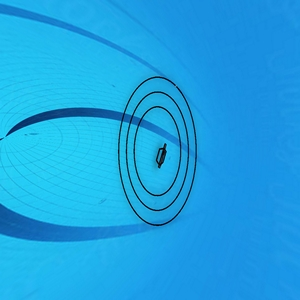circle: (113, 75, 203, 226)
submarine: (154, 142, 169, 170)
